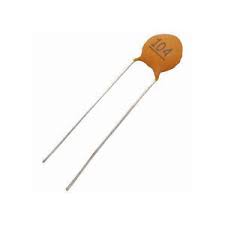ceramic capacitor: (119, 25, 193, 96)
